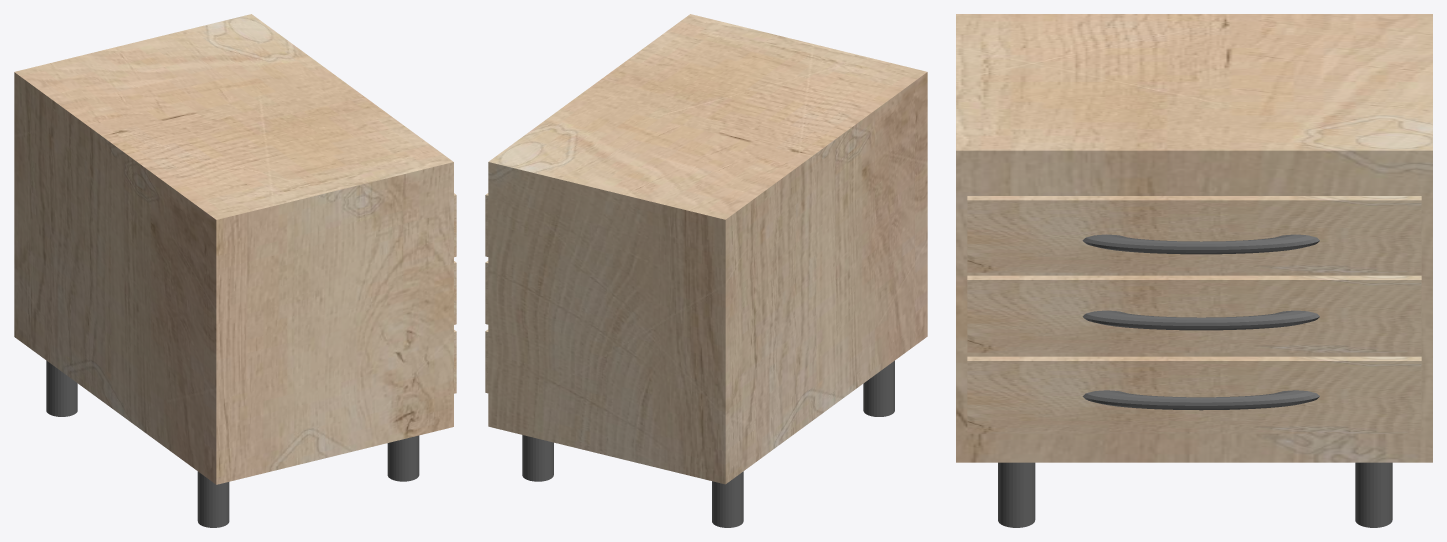
Rendered from drawer.gltf.
The picture shows the model from 3 angles, left to right: view 1: azimuth 30°, elevation 25°; view 2: azimuth 150°, elevation 25°; view 3: azimuth 270°, elevation 25°; orthographic projection. The views are drawn at different scales.
Parts seen in each view (by area): view 1: Cube, Cylinder.004, Cylinder.003, Cylinder.005; view 2: Cube, Cylinder.003, Cylinder.004, Cylinder.002; view 3: Cube, Cube.002, Cube.001, Cube.003, Torus, Torus.002, Torus.001, Cylinder.002, Cylinder.005.
Part boxes in pixels (x1=…): Cube: x1=14, y1=14, x2=453, y2=484; Cylinder.004: x1=197, y1=471, x2=229, y2=527; Cylinder.003: x1=46, y1=360, x2=77, y2=416; Cylinder.005: x1=387, y1=435, x2=419, y2=481; Cube: x1=488, y1=14, x2=927, y2=484; Cylinder.003: x1=712, y1=471, x2=743, y2=527; Cylinder.004: x1=863, y1=360, x2=894, y2=416; Cylinder.002: x1=522, y1=435, x2=553, y2=481; Cube: x1=956, y1=14, x2=1432, y2=462; Cube.002: x1=967, y1=275, x2=1421, y2=352; Cube.001: x1=967, y1=356, x2=1421, y2=433; Cube.003: x1=967, y1=196, x2=1421, y2=272; Torus: x1=1082, y1=310, x2=1319, y2=330; Torus.002: x1=1082, y1=234, x2=1319, y2=254; Torus.001: x1=1082, y1=390, x2=1319, y2=410; Cylinder.002: x1=1355, y1=462, x2=1392, y2=527; Cylinder.005: x1=998, y1=462, x2=1035, y2=527.
Bounding box in the file's own units: 6.68 × 7.94 × 8.94.
2 materials, 1 textured.
